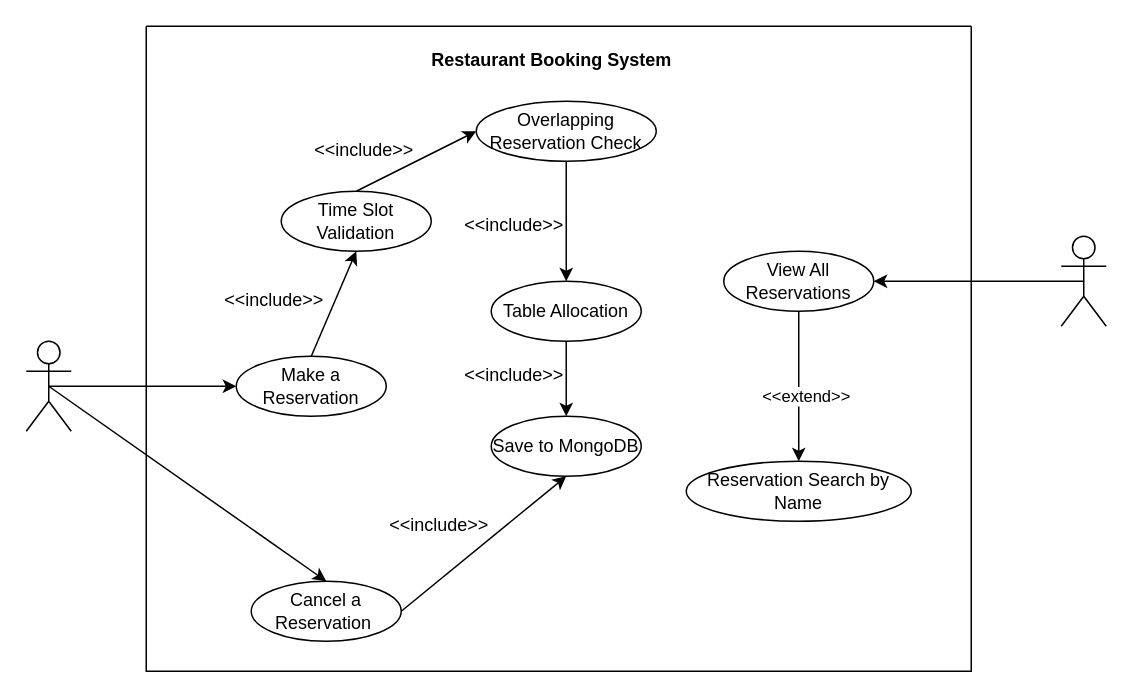
Image size: 1136x698. Some labels were removed from this diagram. Each missing label, with the centre of its shape:
Admin: point (1083, 280)
User: point (48, 385)
